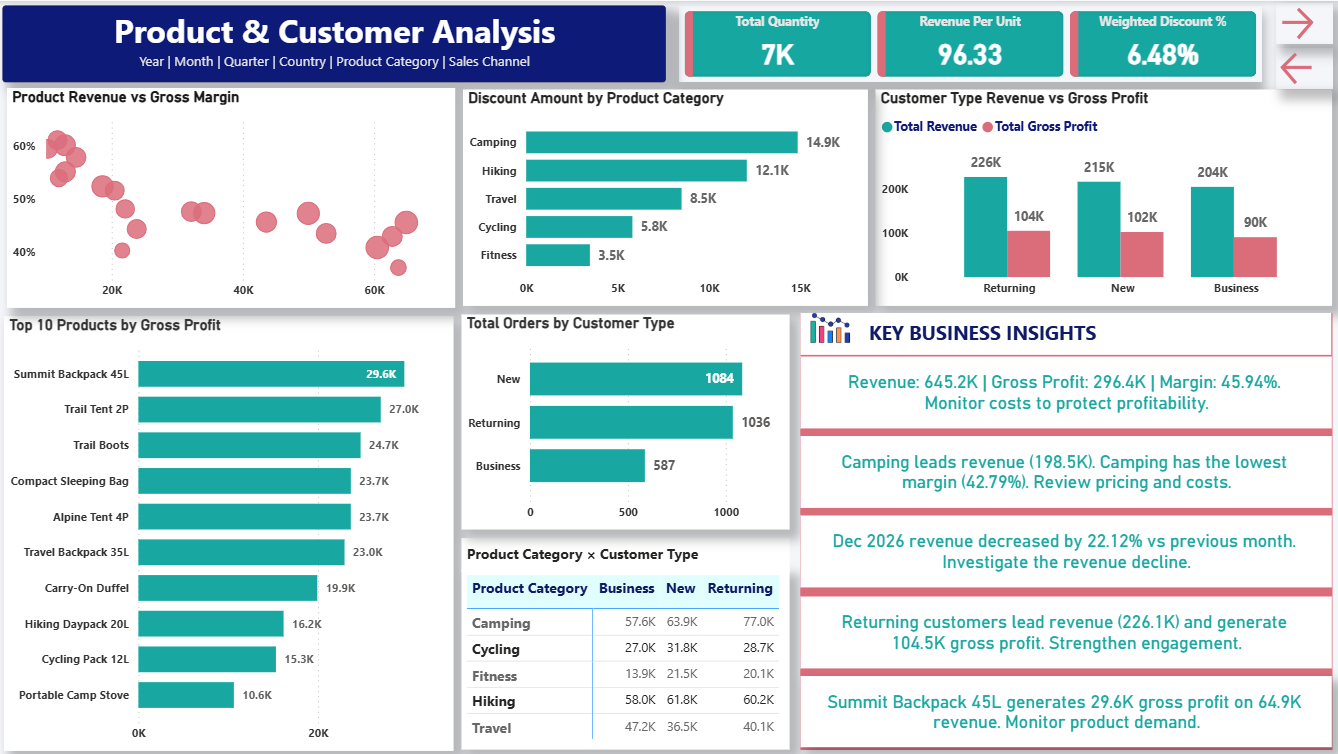

What the dashboard file says about the page in this screenshot:
{"tool":"powerbi","page":{"name":"Product & Customer Analysis","canvas":[1280,720],"ordinal":2},"visuals":[{"type":"cardVisual","fields":{"Data":["All_Measures.Total Quantity","All_Measures.Revenue Per Unit","All_Measures.Weighted Discount %"]},"box":[650.6,4.8,556.7,73],"z":0},{"type":"textbox","title":"Product & Customer Analysis","box":[4.8,4.8,633.1,73],"z":1000},{"type":"clusteredColumnChart","title":"Customer Type Revenue vs Gross Profit","fields":{"Category":["SalesDataTable.Customer Type"],"Y":["All_Measures.Total Revenue","All_Measures.Total Gross Profit"]},"box":[838.3,84.3,435.8,206.8],"z":2000},{"type":"clusteredBarChart","title":"Top 10 Products by Gross Profit","fields":{"Category":["SalesDataTable.Product"],"Y":["All_Measures.Total Gross Profit"]},"box":[6.4,300.6,429.5,415.1],"z":3000},{"type":"scatterChart","title":"Product Revenue vs Gross Margin","fields":{"X":["All_Measures.Total Revenue"],"Y":["All_Measures.Gross Margin"],"Category":["SalesDataTable.Product"],"Size":["All_Measures.Total Quantity"]},"box":[8,82.7,427.9,210],"z":4000},{"type":"pivotTable","fields":{"Rows":["SalesDataTable.Product Category"],"Columns":["SalesDataTable.Customer Type"],"Values":["All_Measures.Total Revenue"]},"box":[442.1,543.1,313.4,171.8],"z":5000},{"type":"clusteredBarChart","title":"Discount Amount by Product Category","fields":{"Category":["SalesDataTable.Product Category"],"Y":["All_Measures.Total Discount Amount"]},"box":[443.8,84.3,386.5,206.8],"z":6000},{"type":"textbox","box":[442.1,512.9,313.4,31.8],"z":7000},{"type":"clusteredBarChart","fields":{"Category":["SalesDataTable.Customer Type"],"Y":["All_Measures.Total Orders"]},"box":[442.2,299,313.4,205],"z":8000},{"type":"actionButton","box":[1220,1,54.1,40],"z":15000},{"type":"group","id":"g1","title":"Group 1","box":[766.4,340.5,507.4,373.8],"z":15000,"group":"g2"},{"type":"actionButton","box":[1220,43.9,54.1,40],"z":16000},{"type":"textbox","box":[827.5,298.3,446.8,39.8],"z":16000,"group":"g3"},{"type":"group","id":"g2","title":"Group 3","box":[766.4,298.3,507.9,416],"z":17000},{"type":"card","fields":{"Values":["All_Measures.Insight 5 - Product Performance"]},"box":[766.4,646.2,507.4,68.1],"z":17000,"group":"g1"},{"type":"image","box":[761.9,292.7,65.2,39.8],"z":18000},{"type":"card","fields":{"Values":["All_Measures.Insight 4 - Customer Performance"]},"box":[766.4,570,507.4,68.4],"z":18000,"group":"g1"},{"type":"card","fields":{"Values":["All_Measures.Insight 3 - Monthly Growth"]},"box":[766.4,493,507.4,68.4],"z":19000,"group":"g1"},{"type":"shape","box":[766.9,298.3,60.6,39.8],"z":20000,"group":"g3"},{"type":"card","fields":{"Values":["All_Measures.Insight 1 - Financial Performance"]},"box":[766.4,340.5,507.4,68.4],"z":20000,"group":"g1"},{"type":"group","id":"g3","title":"Group 2","box":[766.9,298.3,507.4,39.8],"z":20001,"group":"g2"},{"type":"card","fields":{"Values":["All_Measures.Insight 2 - Category Performance"]},"box":[766.4,416.1,507.4,68.4],"z":21000,"group":"g1"}]}

Visuals, with their boxes in screenshot pixels (x1, y1, x2, y2), scaled from the page's 1280x720 canvas onto the 1338x754 screenshot:
cardVisual - All_Measures.Total Quantity x All_Measures.Revenue Per Unit: x1=680, y1=5, x2=1262, y2=81
"Product & Customer Analysis" textbox: x1=5, y1=5, x2=667, y2=81
"Customer Type Revenue vs Gross Profit" clusteredColumnChart: x1=876, y1=88, x2=1332, y2=305
"Top 10 Products by Gross Profit" clusteredBarChart: x1=7, y1=315, x2=456, y2=749
"Product Revenue vs Gross Margin" scatterChart: x1=8, y1=87, x2=456, y2=307
pivotTable - SalesDataTable.Product Category x SalesDataTable.Customer Type: x1=462, y1=569, x2=790, y2=749
"Discount Amount by Product Category" clusteredBarChart: x1=464, y1=88, x2=868, y2=305
textbox: x1=462, y1=537, x2=790, y2=570
clusteredBarChart - SalesDataTable.Customer Type x All_Measures.Total Orders: x1=462, y1=313, x2=790, y2=528
actionButton: x1=1275, y1=1, x2=1332, y2=43
"Group 1" group: x1=801, y1=357, x2=1332, y2=748
actionButton: x1=1275, y1=46, x2=1332, y2=88
textbox: x1=865, y1=312, x2=1332, y2=354
"Group 3" group: x1=801, y1=312, x2=1332, y2=748
card - All_Measures.Insight 5 - Product Performance: x1=801, y1=677, x2=1332, y2=748
image: x1=796, y1=307, x2=865, y2=348
card - All_Measures.Insight 4 - Customer Performance: x1=801, y1=597, x2=1332, y2=669
card - All_Measures.Insight 3 - Monthly Growth: x1=801, y1=516, x2=1332, y2=588
shape: x1=802, y1=312, x2=865, y2=354
card - All_Measures.Insight 1 - Financial Performance: x1=801, y1=357, x2=1332, y2=428
"Group 2" group: x1=802, y1=312, x2=1332, y2=354
card - All_Measures.Insight 2 - Category Performance: x1=801, y1=436, x2=1332, y2=507
